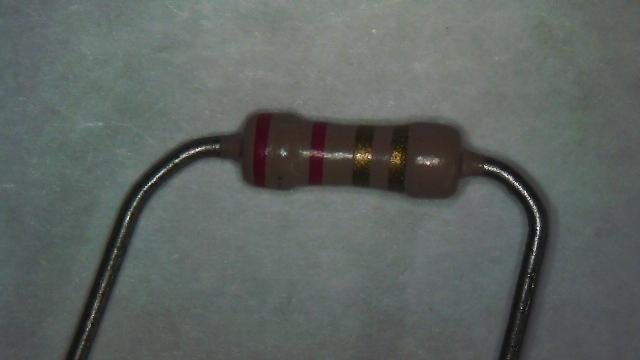gold: (352, 124, 374, 186), (388, 126, 408, 191)
red: (253, 114, 270, 188), (308, 122, 326, 184)
resistor: (217, 90, 481, 224)
